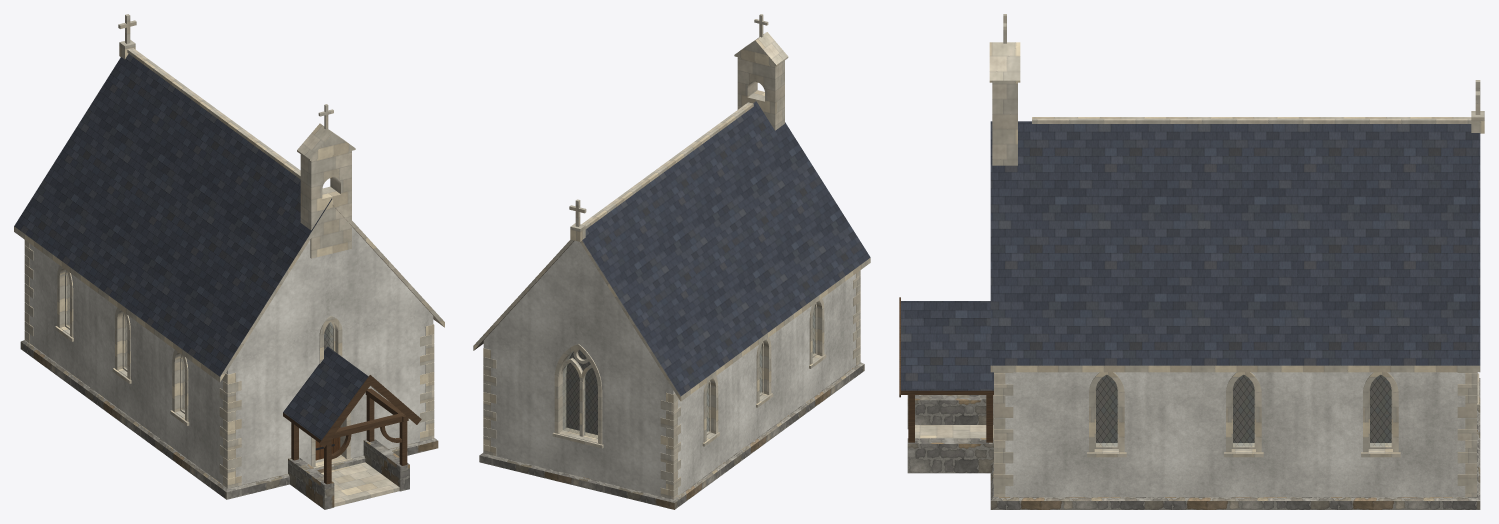
The model's file is village-chapel.glb.
3 renders of one model, left to right at view 1: azimuth 30°, elevation 25°; view 2: azimuth 150°, elevation 25°; view 3: azimuth 270°, elevation 25°, orthographic. The views are drawn at different scales.
Parts seen in each view (by area): view 1: Roof, Walls, Porch, Bellcote, Quoins, Plinth, Dressings, Gable crosses, Glazing; view 2: Roof, Walls, Dressings, Plinth, Quoins, Bellcote, Glazing, Gable crosses; view 3: Roof, Walls, Porch, Plinth, Dressings, Glazing, Quoins, Bellcote.
Boxes of the visible parts, x1=… form: Roof: x1=14, y1=48, x2=444, y2=442; Walls: x1=30, y1=227, x2=433, y2=484; Porch: x1=288, y1=375, x2=421, y2=509; Bellcote: x1=297, y1=123, x2=355, y2=258; Quoins: x1=24, y1=240, x2=434, y2=488; Plinth: x1=20, y1=340, x2=438, y2=499; Dressings: x1=55, y1=265, x2=352, y2=469; Gable crosses: x1=118, y1=14, x2=333, y2=129; Glazing: x1=67, y1=274, x2=332, y2=410; Roof: x1=473, y1=101, x2=870, y2=401; Walls: x1=483, y1=240, x2=855, y2=496; Dressings: x1=552, y1=298, x2=826, y2=448; Plinth: x1=479, y1=362, x2=864, y2=509; Quoins: x1=483, y1=270, x2=860, y2=499; Bellcote: x1=734, y1=32, x2=788, y2=130; Glazing: x1=563, y1=306, x2=814, y2=438; Gable crosses: x1=569, y1=14, x2=768, y2=241; Roof: x1=901, y1=117, x2=1480, y2=394; Walls: x1=995, y1=372, x2=1475, y2=496; Porch: x1=899, y1=297, x2=993, y2=473; Plinth: x1=990, y1=378, x2=1480, y2=509; Dressings: x1=993, y1=372, x2=1479, y2=457; Glazing: x1=1096, y1=375, x2=1391, y2=446; Quoins: x1=994, y1=372, x2=1476, y2=496; Bellcote: x1=989, y1=42, x2=1020, y2=165.
Size of the model in its own units: 7.44 by 11.53 by 14.1.
Materials: 11 (11 with a texture image).
